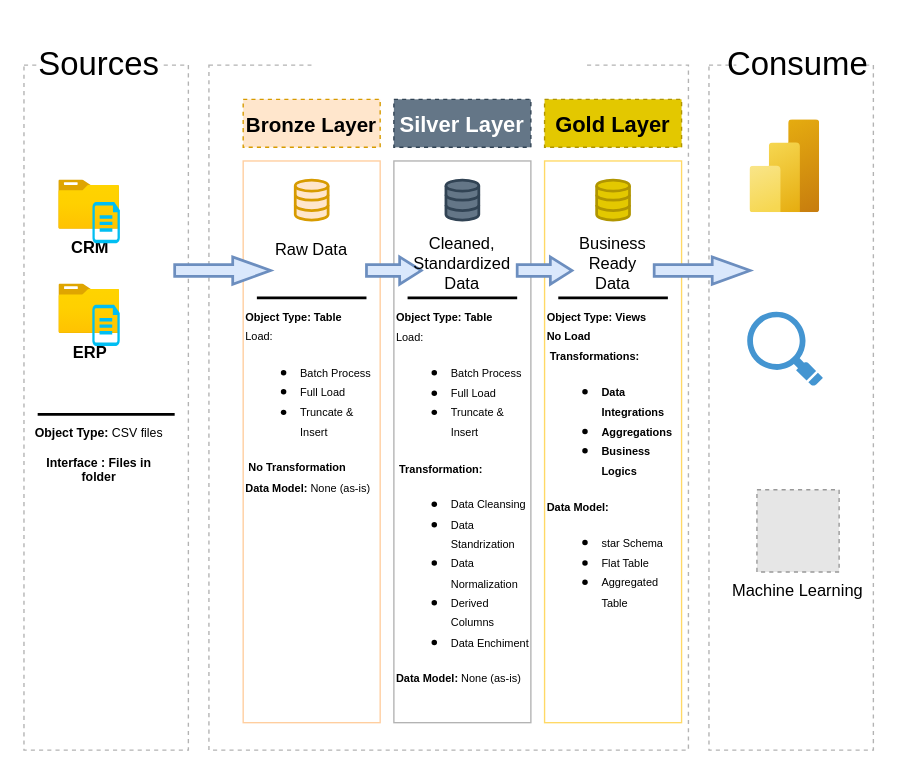
This 897x774 diagram has some shape labels left out. Grey dashed boxes stand in for pictures. Here are the shapes that lost their labels. From the top down, the box of each, then its label:
(311, 30, 585, 99): Data Warehouse
(749, 119, 819, 212): BI & Reporting
(747, 311, 822, 386): Ad-Hoc SQL Queries
